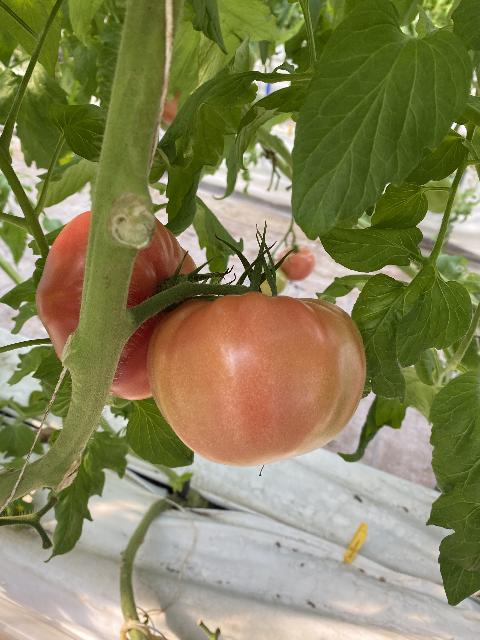b_fully_ripened: (35, 208, 199, 400)
b_half_ripened: (147, 290, 367, 467)
